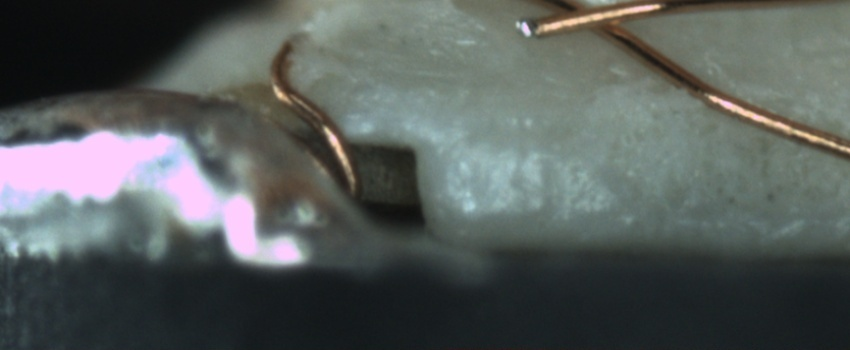CL: (540, 1, 653, 41)
DL: (445, 109, 608, 162)
